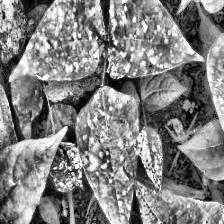Bean Rust: (76, 86, 136, 224), (11, 0, 99, 83), (110, 0, 202, 76), (136, 185, 224, 223), (205, 23, 224, 162), (43, 141, 82, 194), (135, 126, 165, 192), (0, 0, 31, 48), (0, 74, 16, 154)
